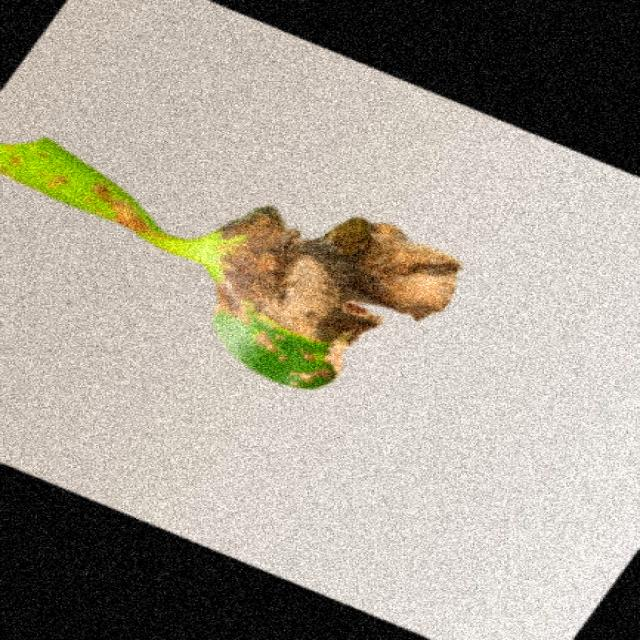daun berpenyakit karat: (2, 138, 460, 388)
